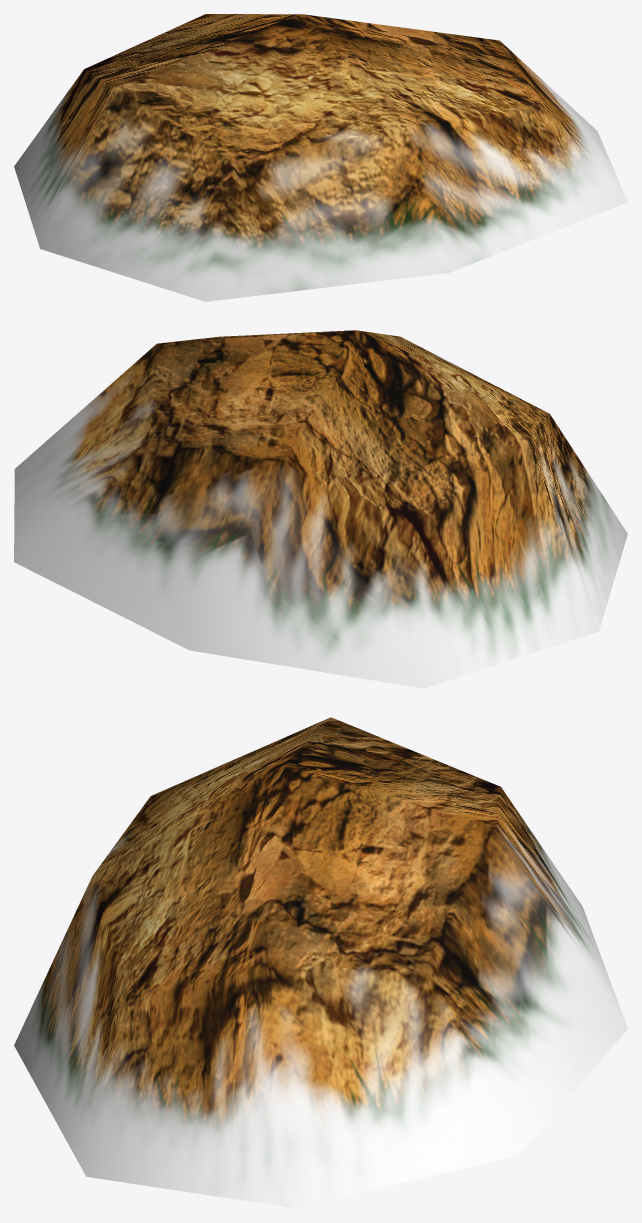
File: Rock04.FBX
3 views of the same model, one above another, from view 1: azimuth 30°, elevation 25°; view 2: azimuth 150°, elevation 25°; view 3: azimuth 270°, elevation 25° (orthographic). The views are drawn at different scales.
Visible parts, largest first — view 1: Box01; view 2: Box01; view 3: Box01.
Boxes of the visible parts, left/top/right/bottom form: Box01: left=14, top=14, right=627, bottom=301; Box01: left=14, top=330, right=627, bottom=688; Box01: left=14, top=717, right=627, bottom=1208.
Bounding box in the file's own units: 80.68 × 27.63 × 60.98.
1 material, 1 textured.
